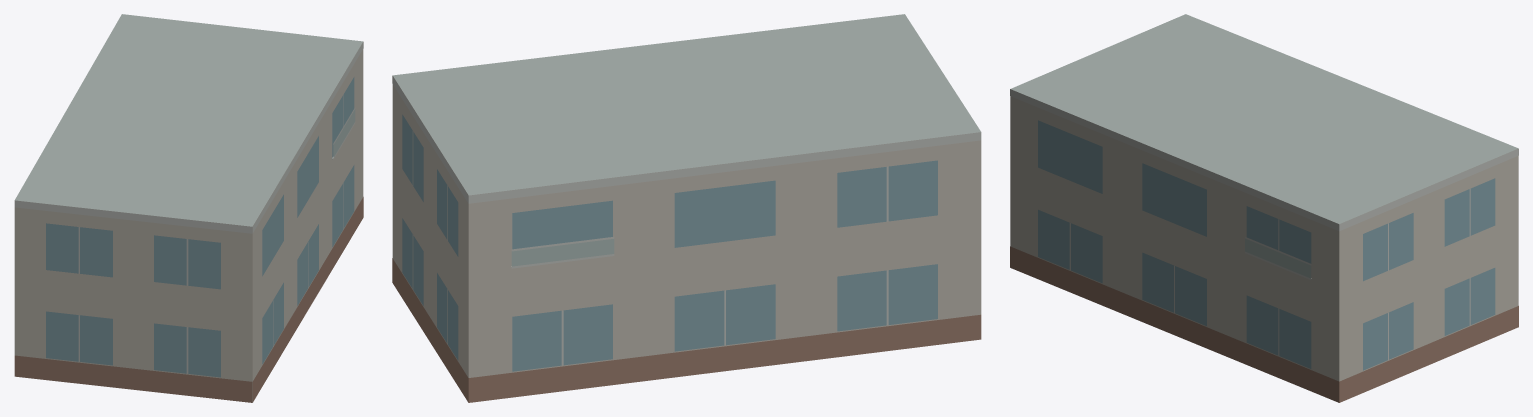
The model's file is survey-upis-33017335.glb.
The picture shows the model from 3 angles, left to right: view 1: azimuth 30°, elevation 25°; view 2: azimuth 150°, elevation 25°; view 3: azimuth 270°, elevation 25°; orthographic projection. The views are drawn at different scales.
Parts seen in each view (by area): view 1: survey-upis-33017335.tmp; view 2: survey-upis-33017335.tmp; view 3: survey-upis-33017335.tmp.
Part boxes in pixels (bbox=[...]): survey-upis-33017335.tmp: bbox=[14, 14, 363, 402]; survey-upis-33017335.tmp: bbox=[392, 14, 981, 402]; survey-upis-33017335.tmp: bbox=[1010, 14, 1518, 402].
Bounding box in the file's own units: 15.39 × 6.1 × 15.74.
